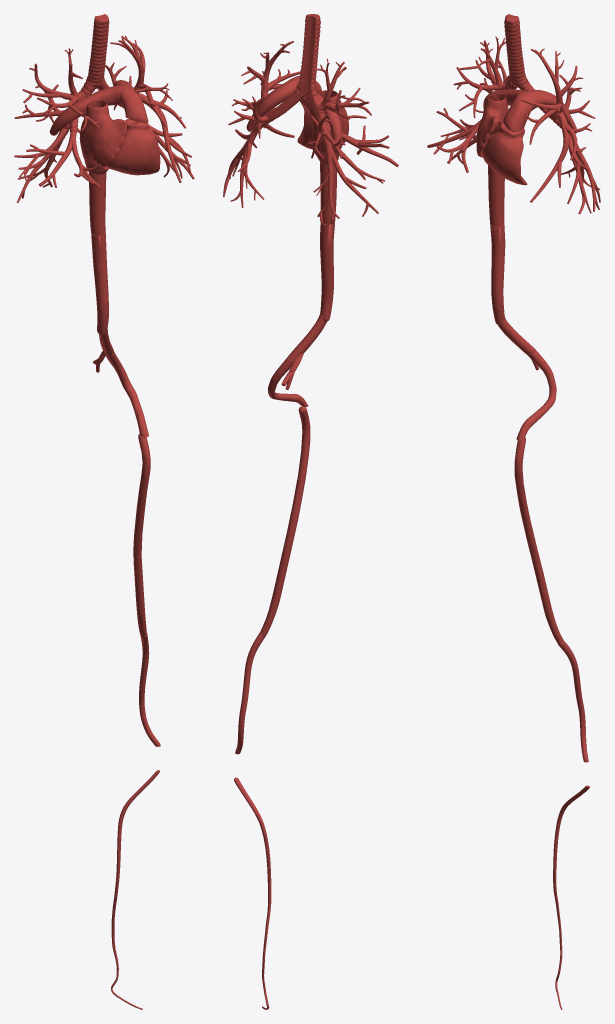
File: clinical-anatomy.glb
3 views of the same model, side by side, from view 1: azimuth 30°, elevation 25°; view 2: azimuth 150°, elevation 25°; view 3: azimuth 330°, elevation 25° (orthographic). The views are drawn at different scales.
Visible parts, largest first — view 1: rightAtrium, ivc, rightVentricle, femoral, trachea, iliac, rightPulmonary, calfVein, popliteal, pulmonaryTrunk, rightBronchus, airway_FJ2441; view 2: femoral, ivc, iliac, trachea, calfVein, popliteal, leftPulmonary, rightBronchus, rightAtrium, leftBronchus, rightPulmonary, rightVentricle; view 3: ivc, femoral, rightVentricle, iliac, trachea, rightAtrium, calfVein, popliteal, pulmonaryTrunk, leftPulmonary, airway_FJ2441.
Part boxes in pixels (x1=…): rightAtrium: x1=79, y1=100, x2=126, y2=174; ivc: x1=89, y1=172, x2=108, y2=334; rightVentricle: x1=106, y1=119, x2=160, y2=175; femoral: x1=133, y1=433, x2=150, y2=637; trachea: x1=86, y1=14, x2=109, y2=88; iliac: x1=93, y1=330, x2=148, y2=437; rightPulmonary: x1=49, y1=85, x2=125, y2=135; calfVein: x1=111, y1=770, x2=159, y2=1009; popliteal: x1=139, y1=632, x2=160, y2=746; pulmonaryTrunk: x1=119, y1=87, x2=148, y2=122; rightBronchus: x1=57, y1=81, x2=96, y2=147; airway_FJ2441: x1=138, y1=93, x2=181, y2=182; femoral: x1=260, y1=406, x2=310, y2=638; ivc: x1=320, y1=162, x2=337, y2=321; iliac: x1=268, y1=314, x2=326, y2=406; trachea: x1=297, y1=14, x2=320, y2=96; calfVein: x1=234, y1=777, x2=271, y2=1009; popliteal: x1=235, y1=632, x2=264, y2=754; leftPulmonary: x1=246, y1=75, x2=300, y2=131; rightBronchus: x1=305, y1=89, x2=335, y2=163; rightAtrium: x1=311, y1=90, x2=348, y2=163; leftBronchus: x1=251, y1=79, x2=303, y2=135; rightPulmonary: x1=296, y1=77, x2=341, y2=151; rightVentricle: x1=297, y1=93, x2=319, y2=149; ivc: x1=488, y1=165, x2=505, y2=324; femoral: x1=514, y1=437, x2=563, y2=644; rightVentricle: x1=482, y1=123, x2=527, y2=185; iliac: x1=497, y1=318, x2=556, y2=440; trachea: x1=504, y1=14, x2=527, y2=87; rightAtrium: x1=476, y1=93, x2=508, y2=157; calfVein: x1=553, y1=785, x2=589, y2=1009; popliteal: x1=558, y1=641, x2=588, y2=762; pulmonaryTrunk: x1=503, y1=94, x2=532, y2=131; leftPulmonary: x1=524, y1=90, x2=576, y2=133; airway_FJ2441: x1=530, y1=111, x2=569, y2=202.
Bounding box in the file's own units: 0.2394 × 1.44 × 0.1575.
